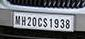0: (31, 16, 36, 26)
1: (48, 16, 53, 28)
2: (26, 15, 31, 25)
3: (59, 18, 64, 27)
8: (64, 18, 70, 28)
9: (52, 17, 59, 27)
C: (36, 15, 42, 27)
H: (20, 14, 26, 25)
S: (42, 16, 47, 27)
